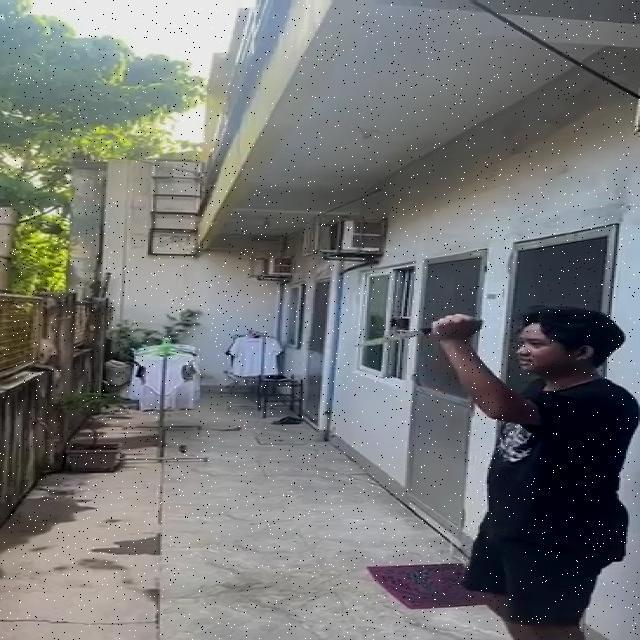knife: (356, 326, 434, 348)
non-violence: (356, 307, 635, 640)
